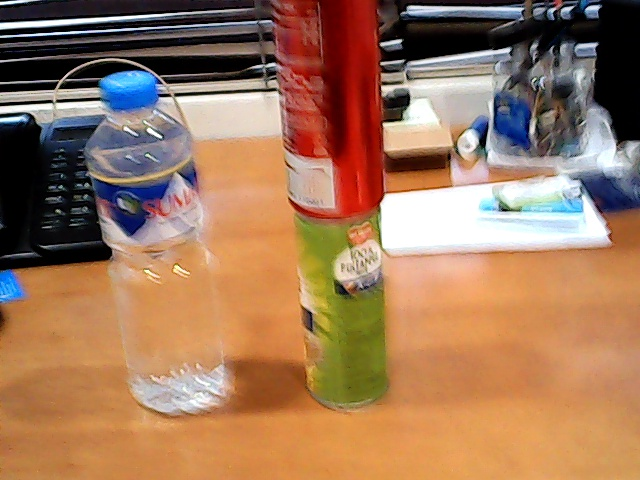Cola: (260, 1, 402, 216)
Pine Juice: (276, 204, 396, 416)
Summit Water: (66, 68, 249, 417)
